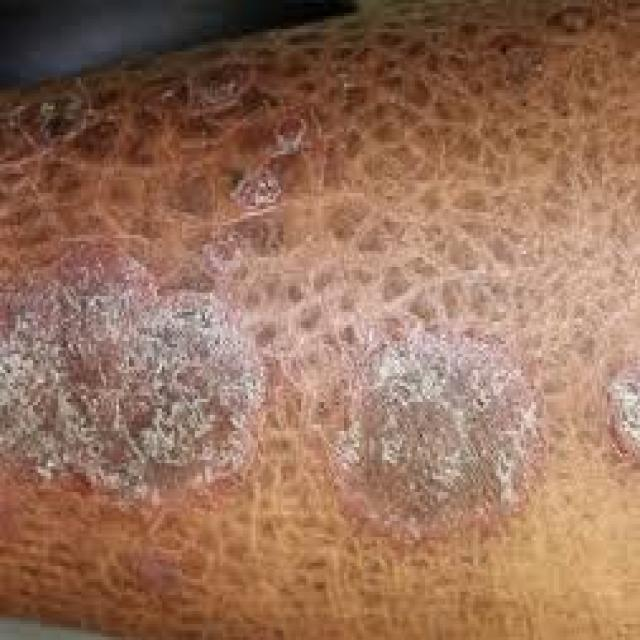Eczema: (15, 134, 548, 548)
